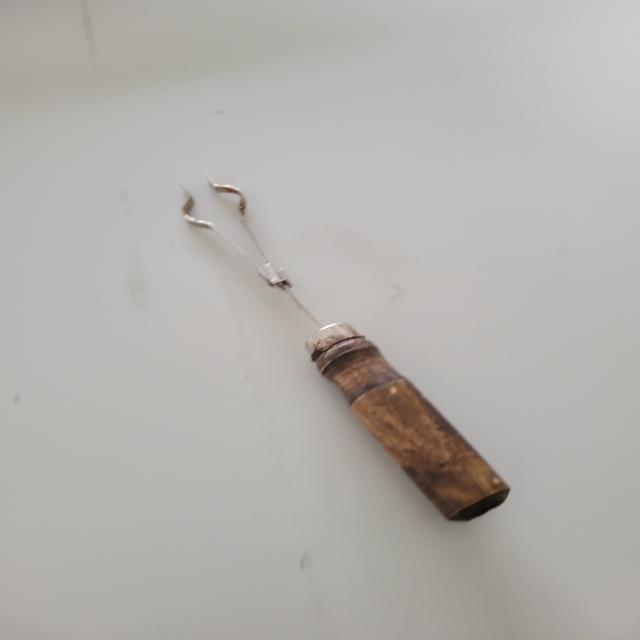TestTube_Holder: (148, 142, 565, 570)
